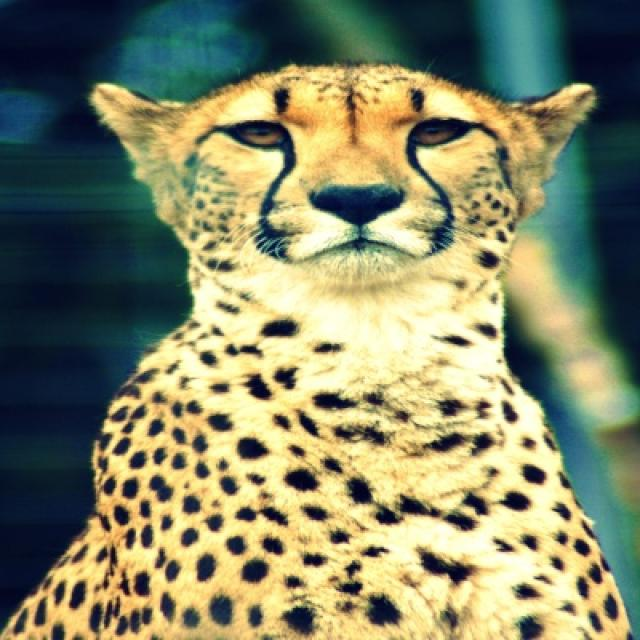Cheetah: (0, 62, 632, 638)
